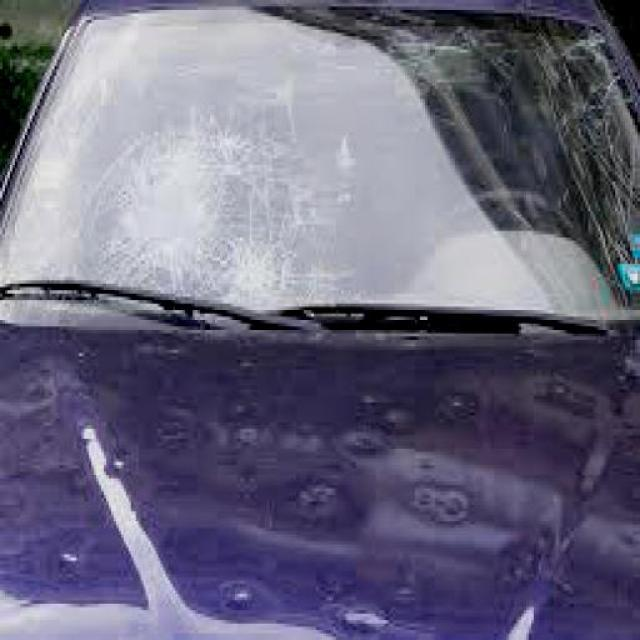car damage: (50, 383, 606, 638), (92, 122, 330, 317)
